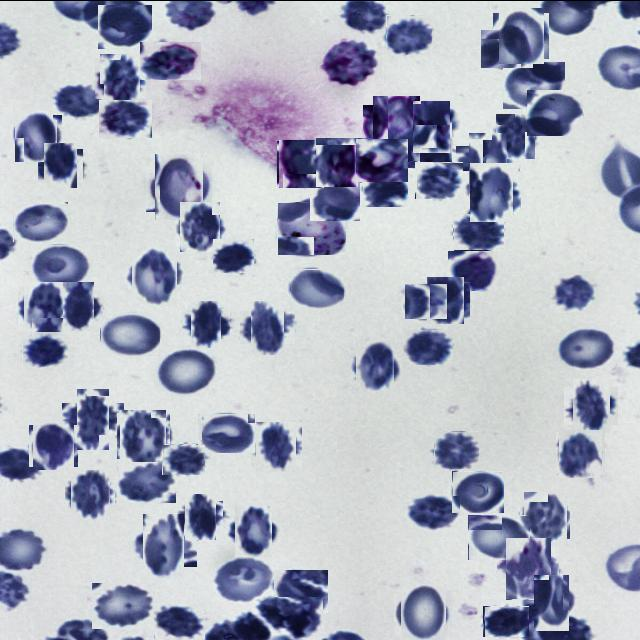red blood cell: (154, 346, 217, 395), (503, 62, 565, 110), (212, 556, 275, 603), (255, 596, 323, 639), (92, 582, 155, 628), (137, 518, 190, 572), (468, 514, 530, 559), (320, 38, 377, 86), (556, 326, 618, 370), (397, 586, 449, 638), (128, 249, 180, 301), (462, 138, 514, 190), (466, 166, 518, 218), (29, 243, 91, 286), (100, 312, 160, 355), (397, 121, 452, 167), (527, 90, 583, 135), (496, 10, 546, 60), (118, 410, 168, 460), (117, 460, 176, 502), (273, 568, 328, 612), (20, 284, 70, 332), (99, 4, 152, 48), (355, 137, 408, 181), (197, 412, 255, 452), (140, 41, 201, 79), (12, 112, 60, 160), (290, 268, 344, 310), (278, 140, 325, 187), (522, 492, 568, 540), (70, 394, 116, 442), (13, 202, 68, 242), (452, 470, 504, 512), (30, 422, 76, 468), (178, 203, 224, 249), (568, 382, 614, 428), (558, 430, 604, 476), (528, 580, 574, 626), (314, 138, 360, 184), (253, 424, 300, 468), (480, 28, 533, 67), (408, 104, 454, 148), (99, 99, 152, 137), (353, 343, 398, 387), (98, 56, 143, 100), (551, 270, 598, 312), (448, 250, 497, 290), (453, 212, 504, 250), (232, 509, 276, 553), (246, 304, 290, 348), (68, 472, 112, 516), (310, 182, 360, 220), (406, 495, 460, 530), (424, 278, 468, 320), (386, 14, 432, 54), (53, 83, 104, 119), (154, 602, 205, 638), (403, 328, 453, 364), (415, 161, 463, 198), (494, 115, 536, 156), (434, 430, 479, 468), (22, 330, 68, 366), (58, 286, 98, 326), (180, 496, 220, 536), (404, 282, 447, 318), (364, 172, 409, 206), (41, 146, 80, 184), (187, 304, 226, 342), (213, 238, 256, 272), (484, 605, 530, 636), (162, 443, 205, 474)
ring: (150, 157, 208, 215), (368, 100, 425, 156), (502, 541, 556, 595)
trophozoite: (277, 201, 346, 254)
